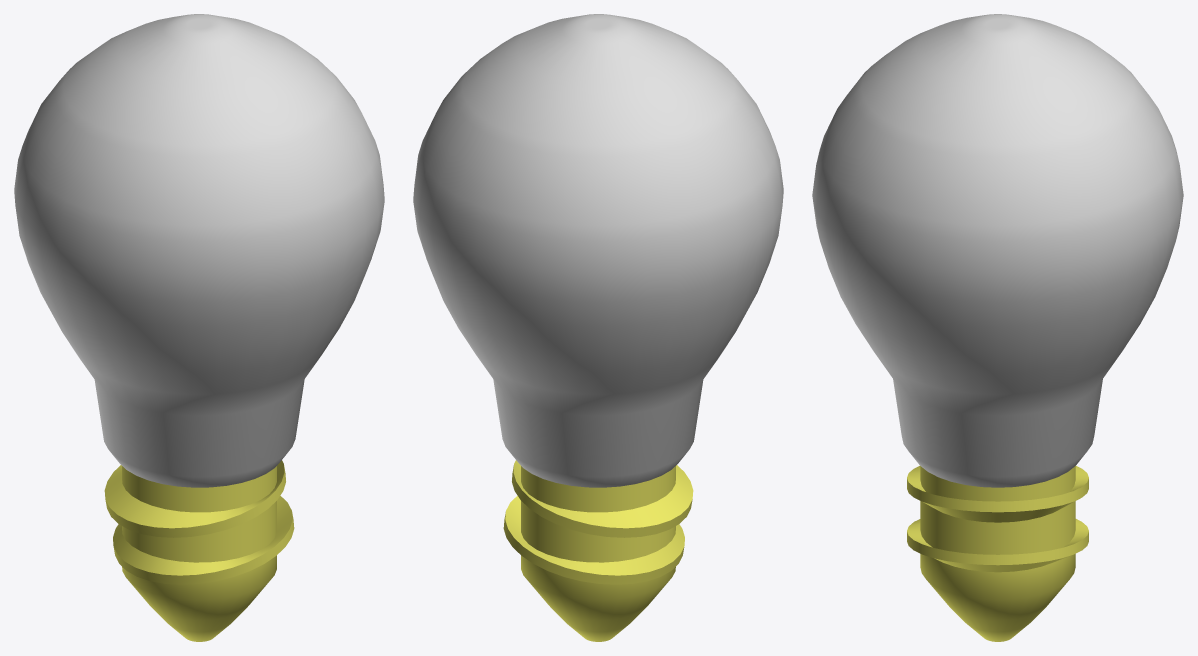
Rendered from Ampul.fbx.
3 views of the same model, side by side, from view 1: azimuth 30°, elevation 25°; view 2: azimuth 150°, elevation 25°; view 3: azimuth 270°, elevation 25° (orthographic).
Visible parts, largest first — view 1: Ampul; view 2: Ampul; view 3: Ampul.
Boxes of the visible parts, x1,y1,x2,y2 form: Ampul: [14, 14, 384, 641]; Ampul: [413, 14, 783, 641]; Ampul: [812, 14, 1183, 641].
Bounding box in the file's own units: 151 × 273 × 151.
